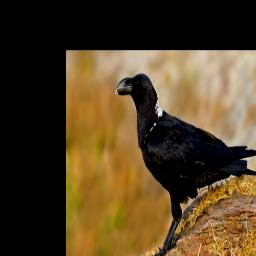Crow: (114, 73, 256, 256)
